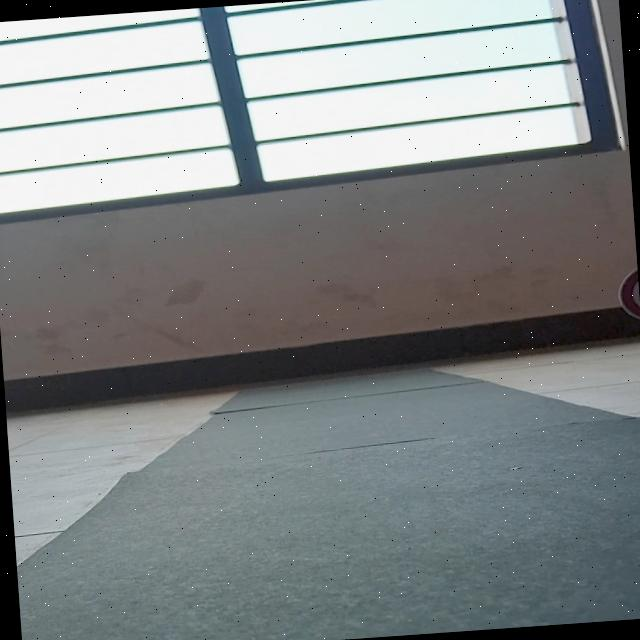Speed60: (615, 255, 640, 330)
